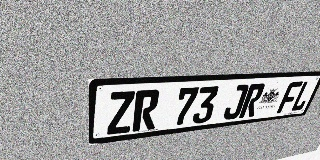3: (191, 86, 220, 124)
7: (171, 87, 200, 127)
F: (276, 81, 303, 113)
J: (222, 84, 250, 120)
L: (289, 80, 316, 112)
R: (132, 89, 160, 132), (238, 83, 266, 118)
Z: (107, 91, 135, 135)
